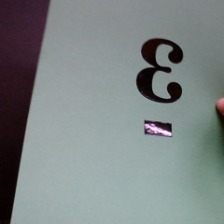green3: (129, 34, 192, 141)
